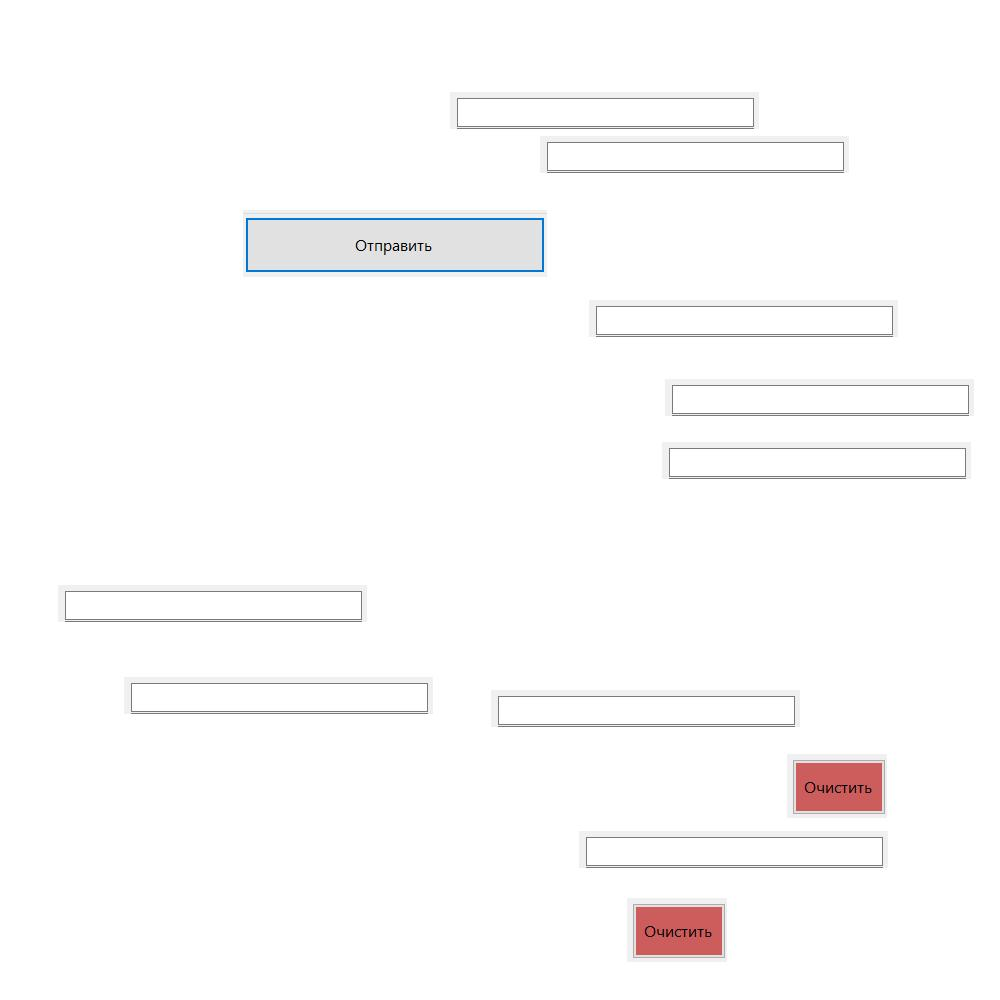Button: (243, 210, 547, 277), (787, 754, 887, 818), (627, 898, 727, 962)
EditText-: (58, 585, 367, 622), (124, 677, 433, 714), (665, 379, 974, 416), (589, 300, 898, 337), (491, 690, 800, 727), (450, 92, 759, 129), (540, 136, 849, 173), (662, 442, 971, 479), (579, 831, 888, 868)
